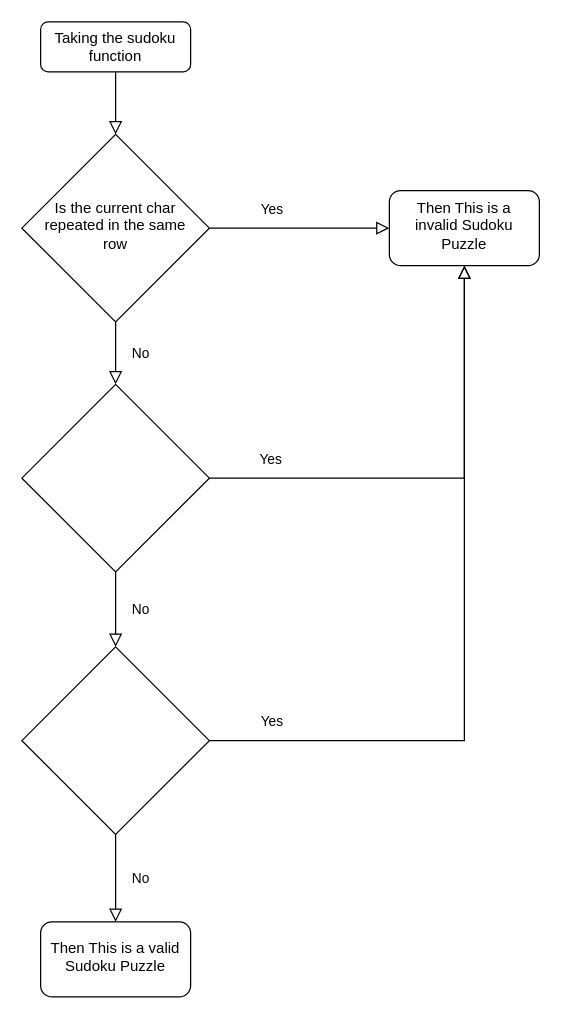
Image size: 561x1019. Some labels were removed from this diagram. The centre of each missing label's shape, as x and y in pixels:
"Is the current char repeated in the same Column" belongs at point 115,477.
"Is the current char repeated in the same Sub-grid" belongs at point 115,740.
